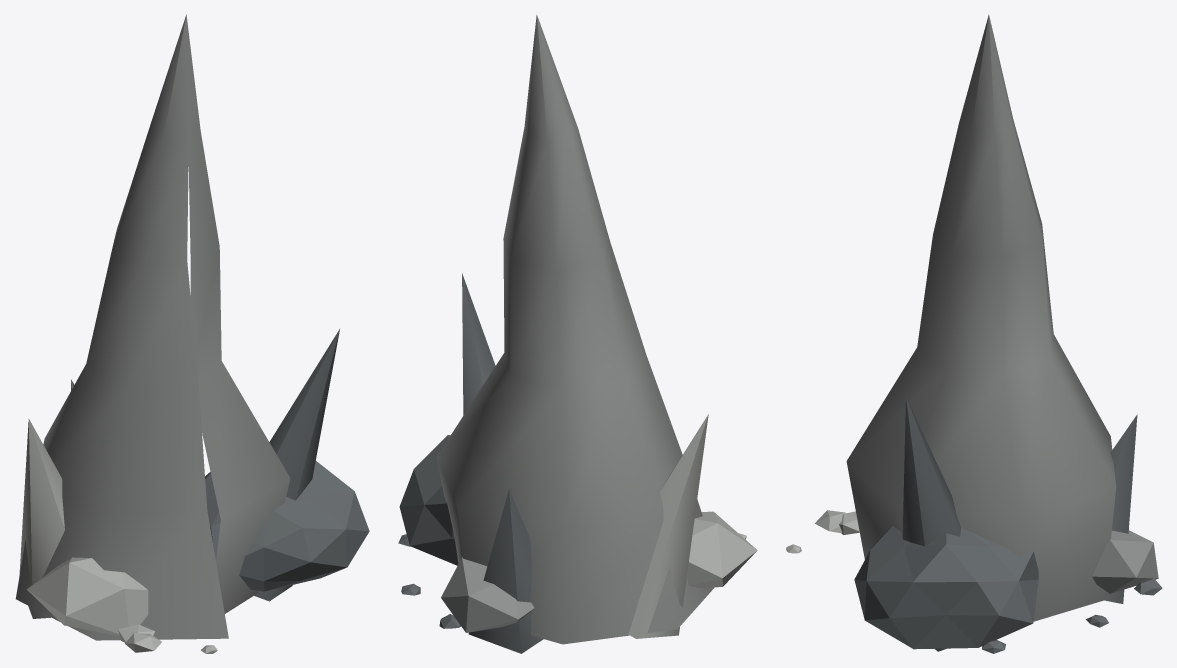
Rendered from RockSpire.glb.
3 views of the same model, side by side, from view 1: azimuth 30°, elevation 25°; view 2: azimuth 150°, elevation 25°; view 3: azimuth 270°, elevation 25° (orthographic). The views are drawn at different scales.
Visible parts, largest first — view 1: Body; view 2: Body; view 3: Body.
Boxes of the visible parts, x1=… form: Body: x1=15, y1=14, x2=369, y2=653; Body: x1=398, y1=14, x2=757, y2=653; Body: x1=786, y1=14, x2=1162, y2=653.
Size of the model in its own units: 5.18 by 9.24 by 5.29.
Materials: 1 (1 with a texture image).
